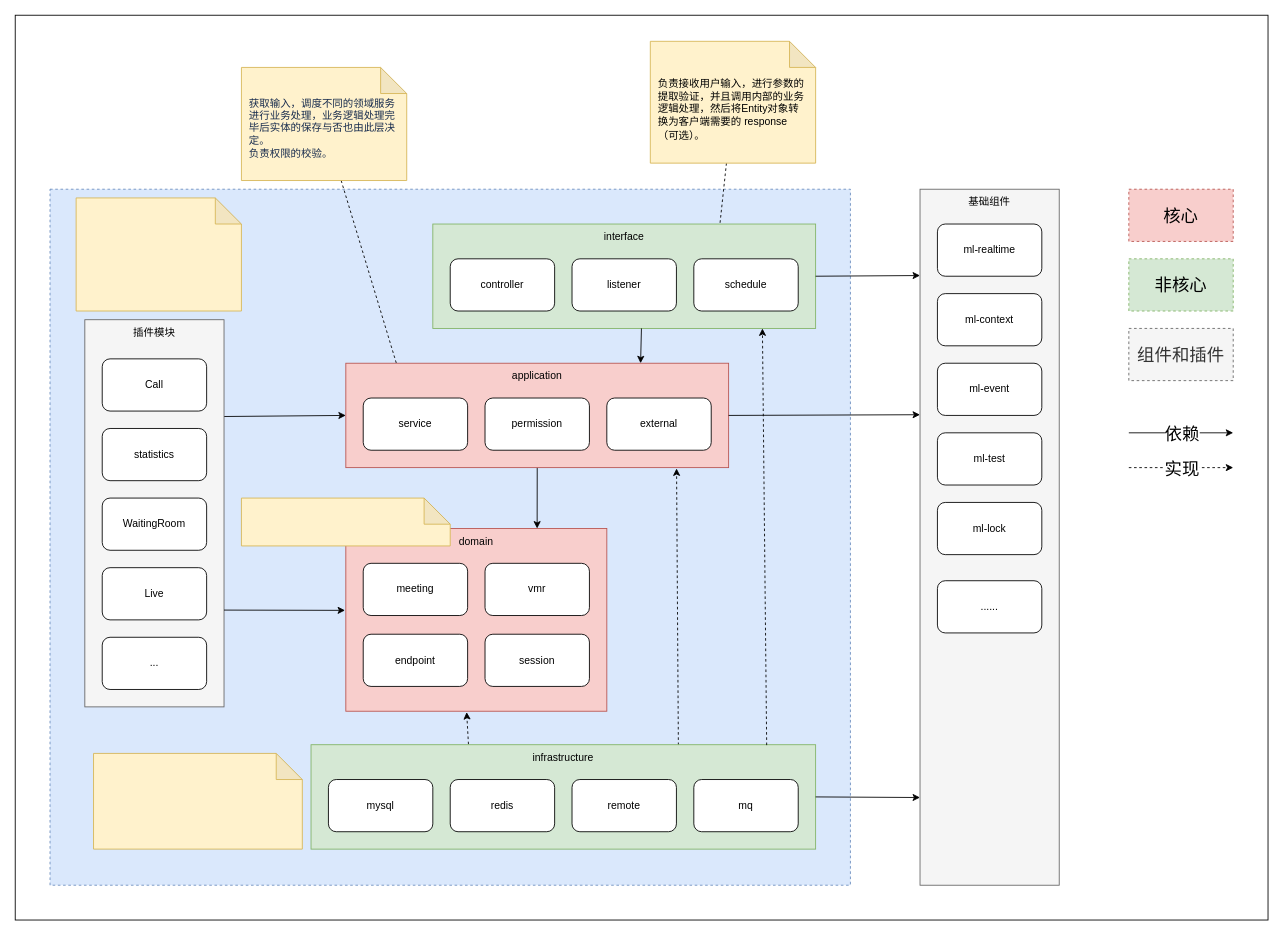
Image size: 1283x935. Some labels were removed from this diagram. Each missing label, with the centre of its shape:
作为视频会议里面锦上添花的功能，以模块化插件的方式导入到项目中。 与核心模块进行解耦，修改不影响核心模块。: [158,254]
封装核心的业务逻辑，整个业务系统的核心，此层次不可以依赖任何其他的层次。: [345,521]
负责第三方系统的对接，数据库 CRUD。此层次的核心目的是防腐，防止依赖的第三方系统发生变化，也导致上层依赖业务也需要响应变化。: [197,801]
